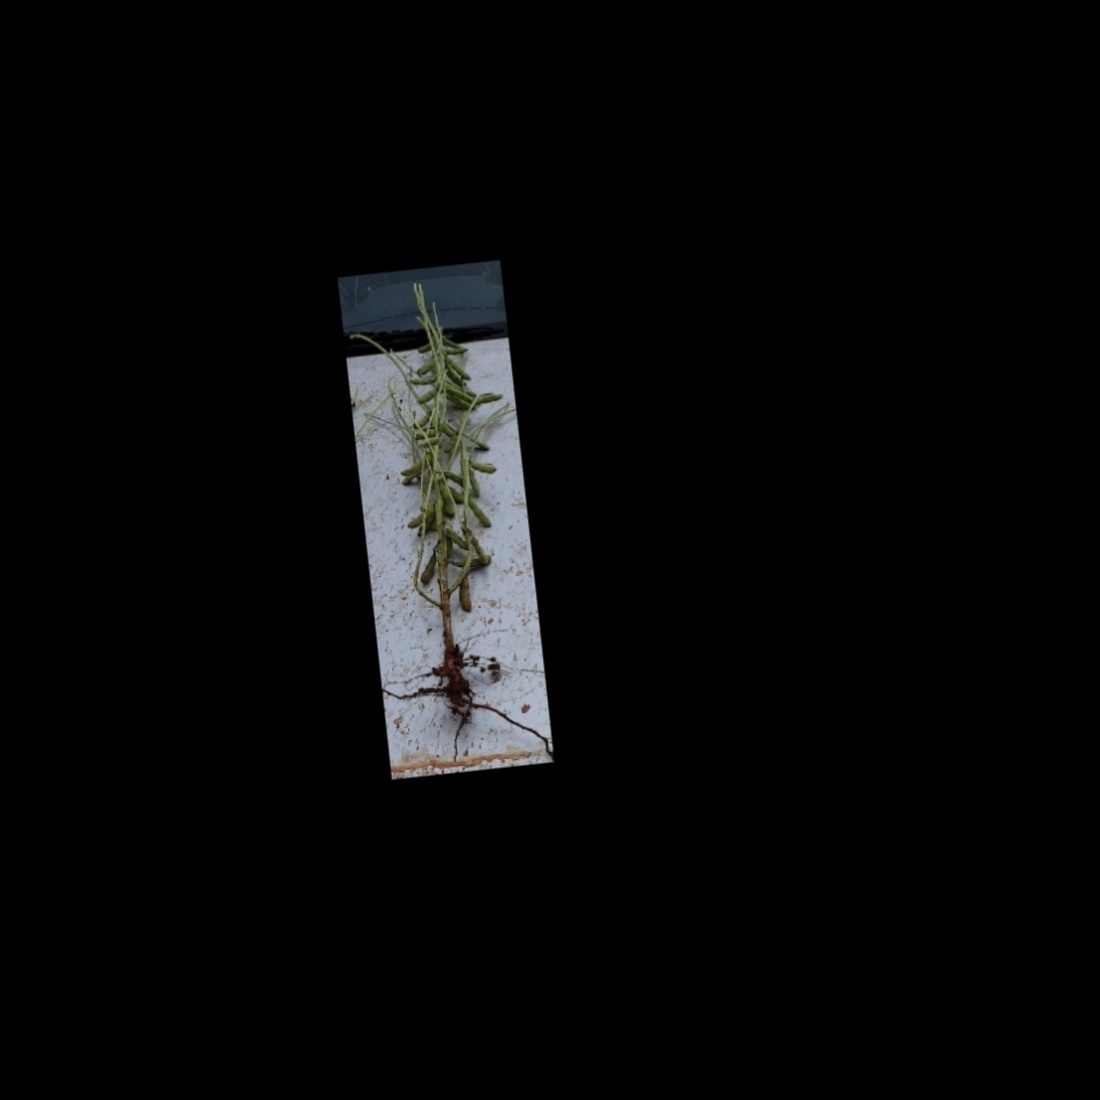pod: (415, 540, 447, 587), (462, 491, 496, 535), (452, 568, 479, 618), (443, 351, 474, 387), (462, 453, 502, 480), (440, 468, 471, 493), (413, 386, 442, 407), (407, 372, 442, 387), (438, 341, 470, 357)
soy: (343, 269, 540, 708)
